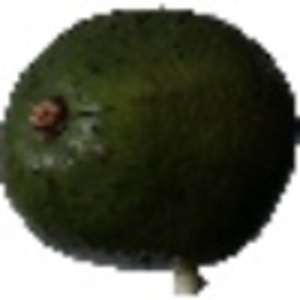abacate: (1, 6, 297, 266)
